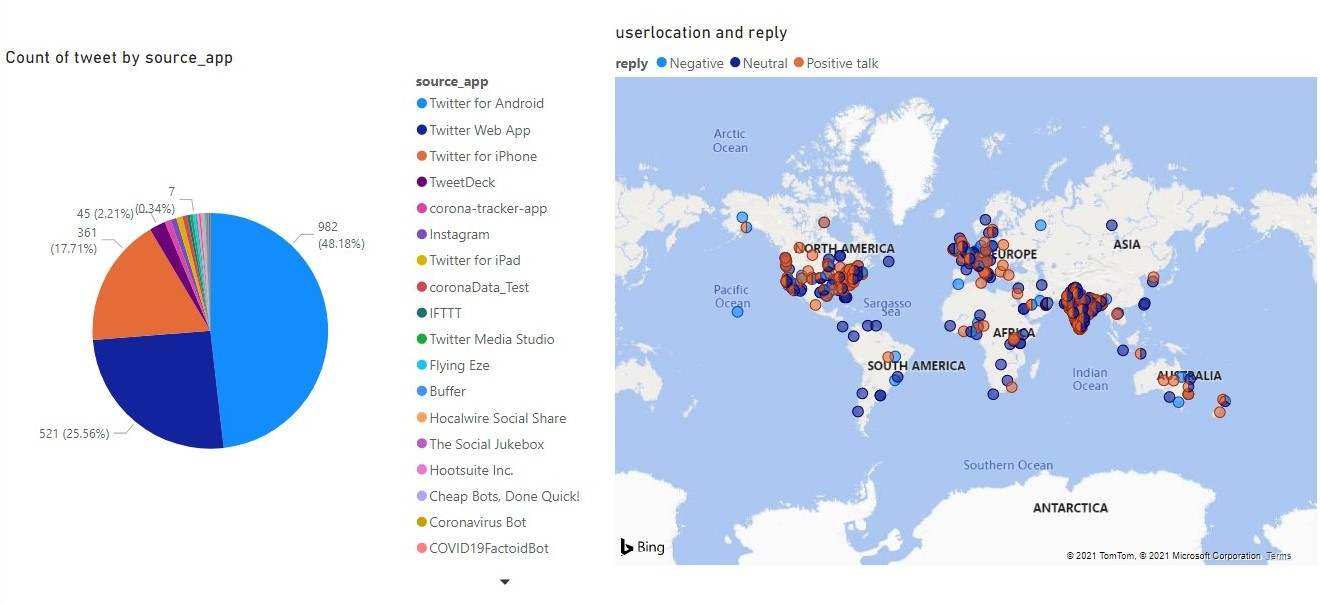

This screenshot's page, from the dashboard's own definition file:
{"tool":"powerbi","page":{"name":"Page 1","canvas":[1280,720],"ordinal":0},"visuals":[{"type":"pieChart","fields":{"Y":["CountNonNull(covid_19.tweet)"],"Category":["covid_19.source_app"]},"box":[0,50.8,578.4,531.2],"z":0},{"type":"map","fields":{"Category":["covid_19.userlocation"],"Series":["covid_19.reply"]},"box":[590.5,26.6,689.7,531.2],"z":1000}]}

Visuals, with their boxes on the page's 1280x720 design canvas (x1, y1, x2, y2). These are canvas units, not pixel positions in the 1320x605 screenshot, which may show the page scaled, cropped or inside an application window:
pieChart - CountNonNull(covid_19.tweet) x covid_19.source_app: [0, 51, 578, 582]
map - covid_19.userlocation x covid_19.reply: [590, 27, 1280, 558]
